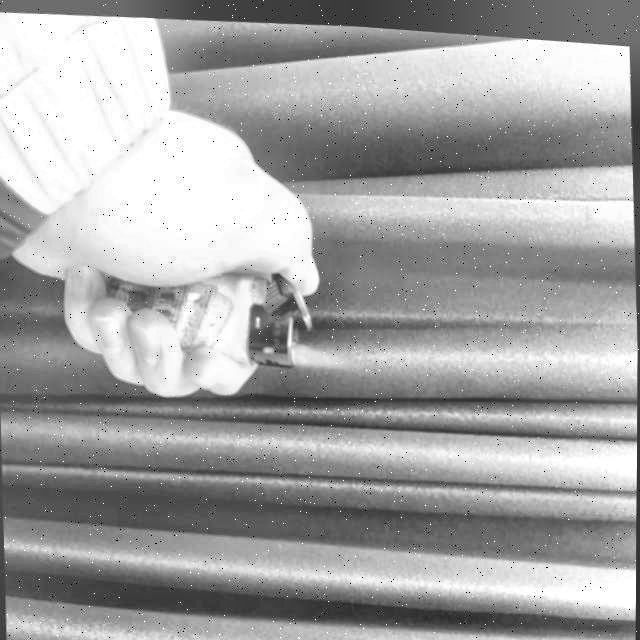Fire: (289, 333, 353, 368)
